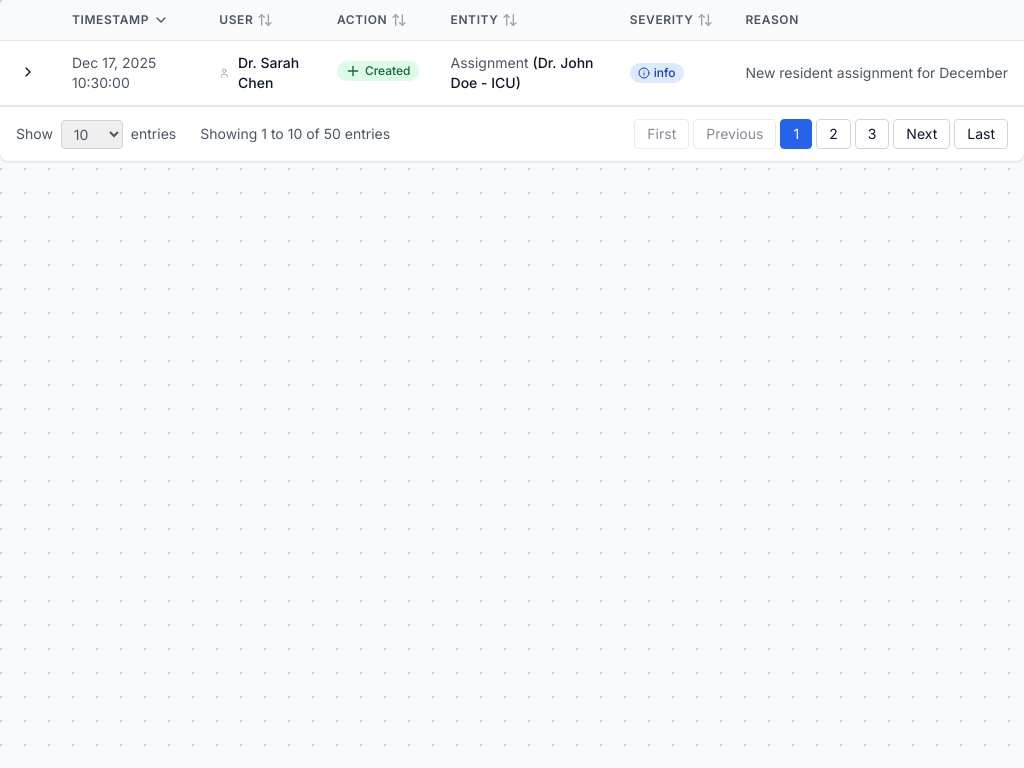
Scenario: AuditLogTable › Expandable Rows › should display field changes when expanded
Click the button named "Expand details". click: (28, 72)
box: x1=16 y1=60 x2=40 y2=84
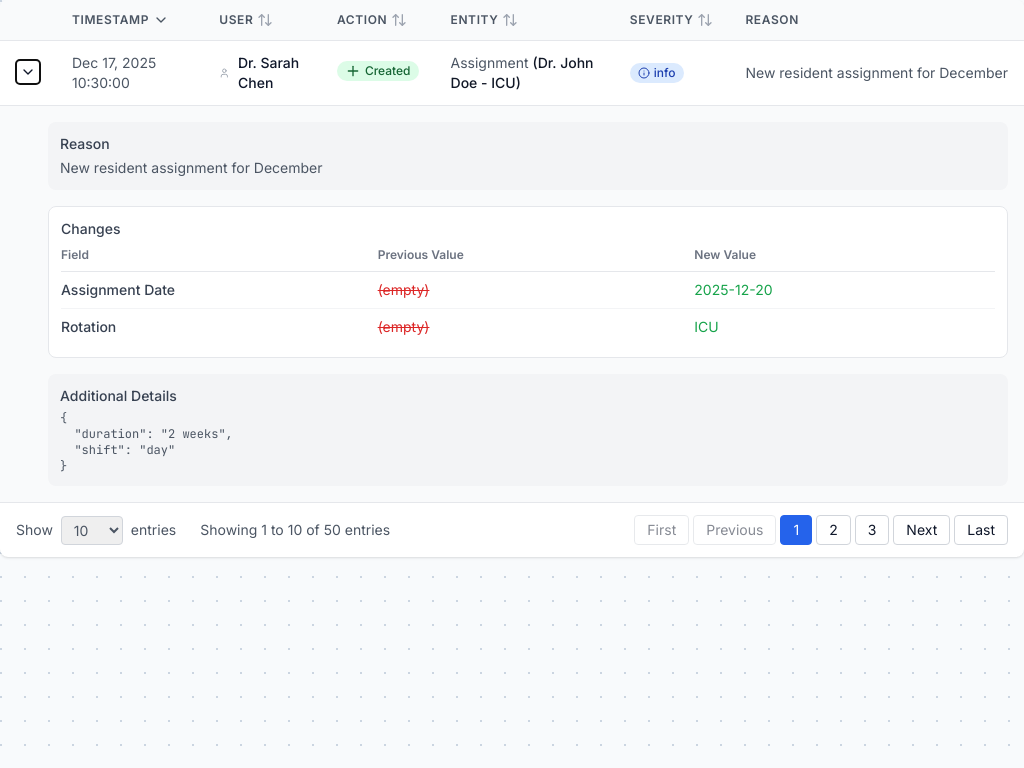
Now the text "Assignment Date" is shown, box x1=61 y1=281 x2=175 y2=298
Now the text "Rotation" is shown, box x1=61 y1=318 x2=116 y2=335
